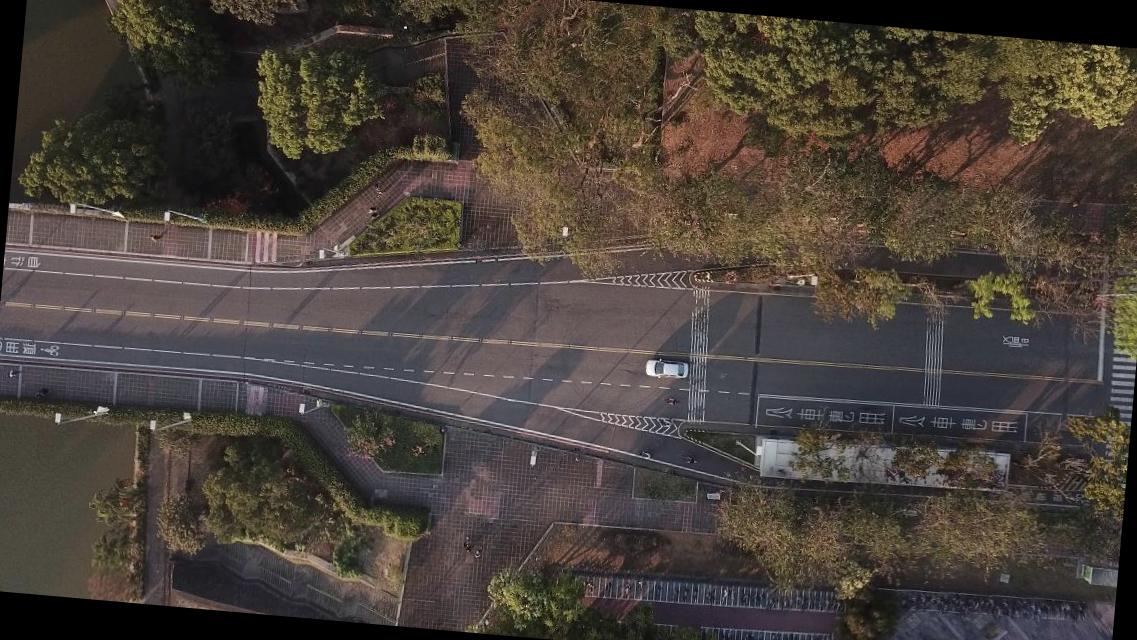vehicle: (643, 356, 689, 380)
